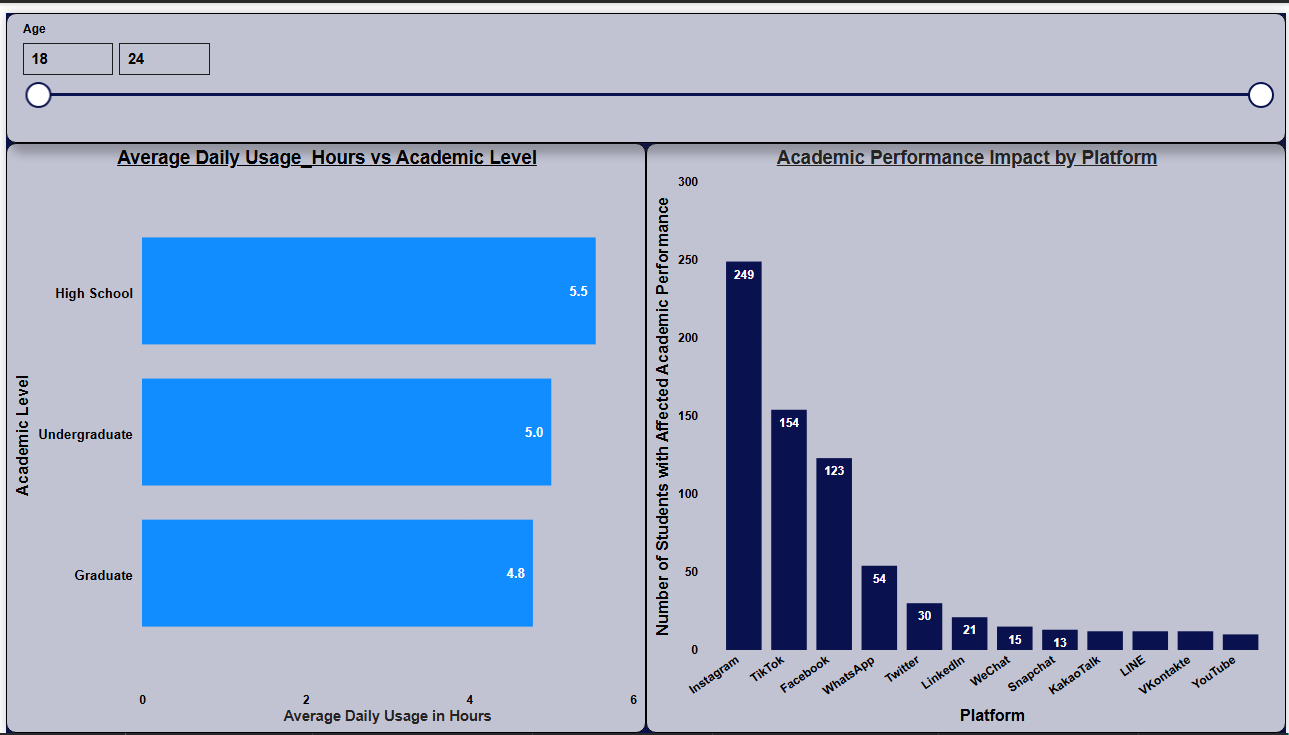

The page's visual inventory and layout, read from the dashboard file:
{"tool":"powerbi","page":{"name":"Page 3 : Academic Impact","canvas":[1280,720],"ordinal":2},"visuals":[{"type":"barChart","title":"Average Daily Usage_Hours vs Academic Level","fields":{"Y":["Avg(Platform Details.Avg_Daily_Usage_Hours)"],"Category":["Student Details.Academic_Level"]},"box":[0,130,640,590.3],"z":0},{"type":"columnChart","title":"Academic Performance Impact by Platform","fields":{"Y":["CountNonNull(Platform Details.Affects_Academic_Performance)"],"Category":["Platform Details.Most_Used_Platform"]},"box":[640,130,640,590.3],"z":1000},{"type":"slicer","fields":{"Values":["Student Details.Age"]},"box":[0,0,1280,130],"z":2000}]}

Visuals, with their boxes in screenshot pixels (x1, y1, x2, y2), scaled from the page's 1280x720 canvas onto the 1289x735 screenshot:
"Average Daily Usage_Hours vs Academic Level" barChart: Rect(0, 133, 644, 734)
"Academic Performance Impact by Platform" columnChart: Rect(644, 133, 1288, 734)
slicer - Student Details.Age: Rect(0, 0, 1288, 133)
